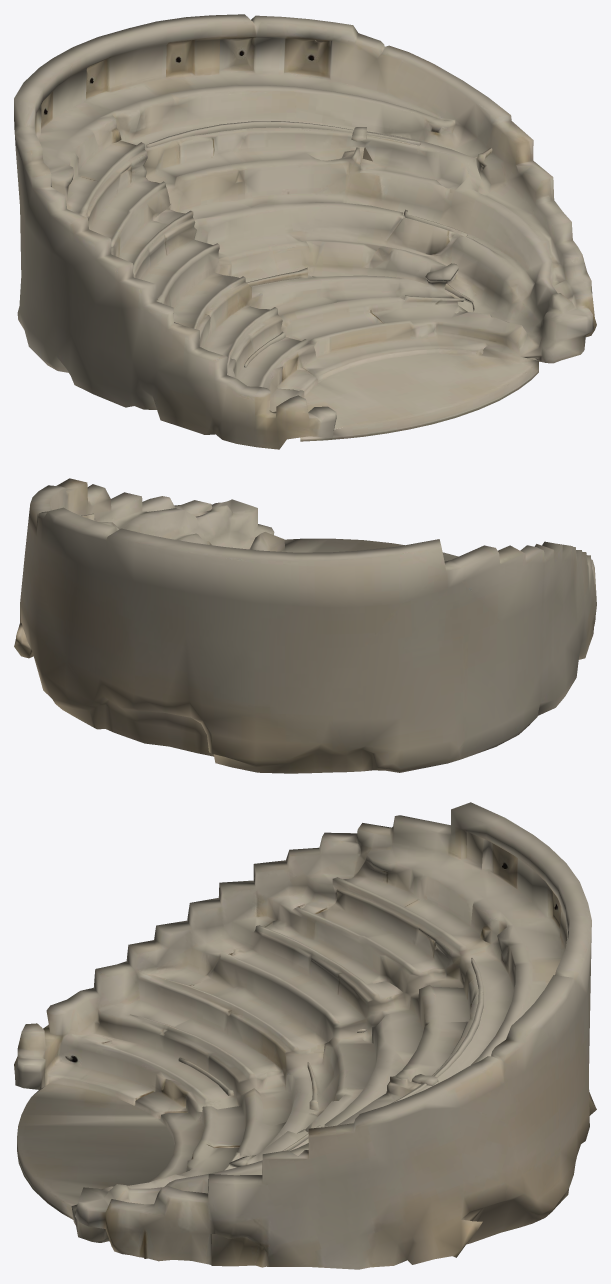
The picture shows the model from 3 angles, top to bottom: view 1: azimuth 30°, elevation 25°; view 2: azimuth 150°, elevation 25°; view 3: azimuth 270°, elevation 25°; orthographic projection. The views are drawn at different scales.
Size of the model in its own units: 0.9995 by 0.436 by 0.9634.
1 material, 1 textured.
